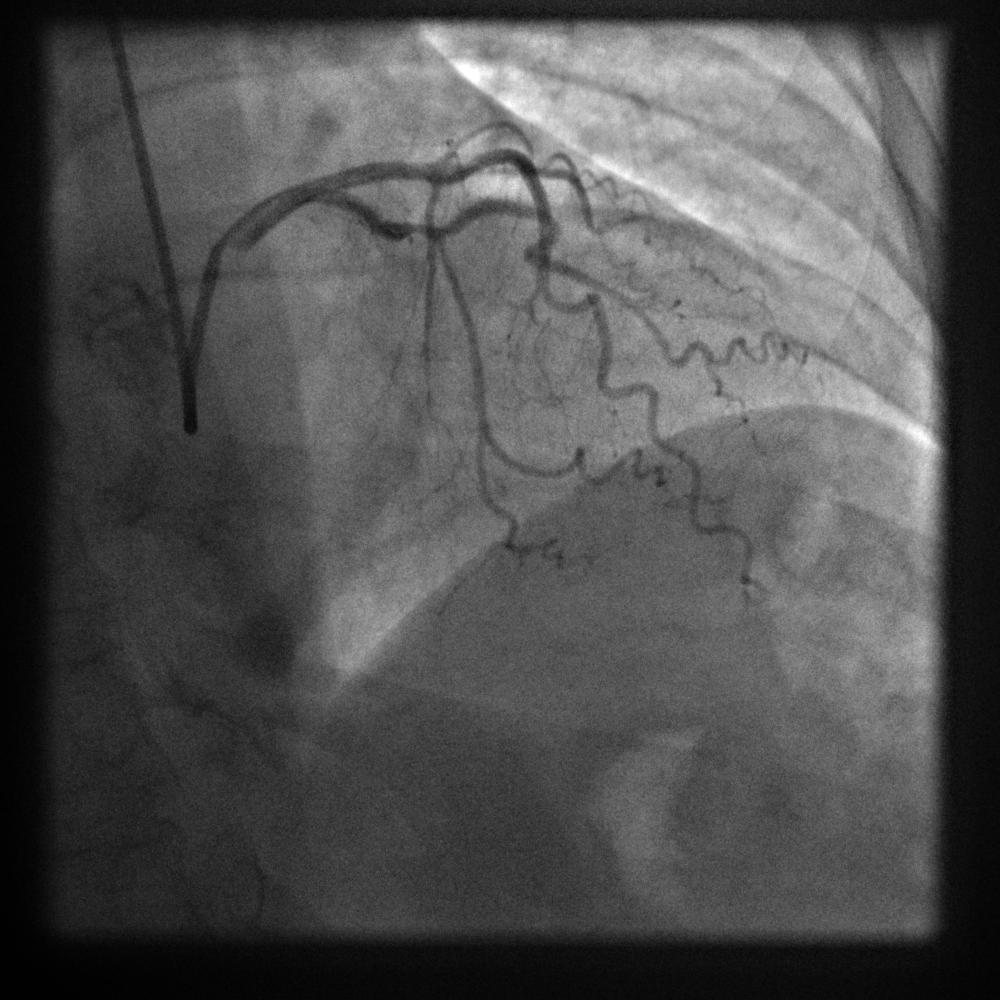Stenosis: (362, 211, 454, 246)
